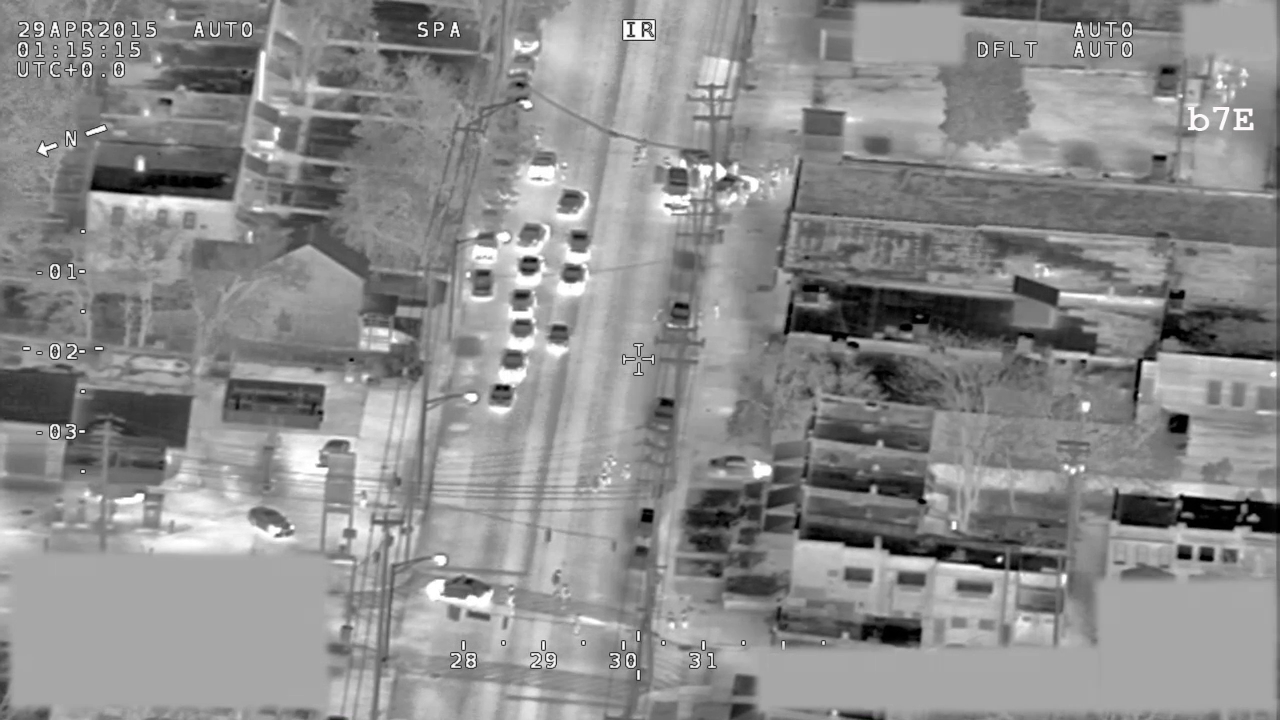vehicle: (422, 568, 498, 612), (648, 163, 702, 220), (707, 173, 762, 216), (242, 500, 297, 542), (703, 454, 774, 486), (552, 182, 594, 224), (510, 8, 544, 58), (677, 143, 725, 178), (504, 58, 538, 104), (524, 146, 563, 185), (562, 226, 597, 268), (509, 219, 552, 253), (467, 228, 503, 267), (553, 262, 593, 297), (314, 437, 353, 472), (507, 315, 543, 351), (628, 537, 659, 576), (513, 254, 547, 288), (631, 508, 663, 542), (468, 265, 497, 302), (496, 349, 528, 382), (545, 322, 572, 361), (507, 284, 540, 315), (652, 394, 676, 436), (668, 298, 694, 336), (487, 381, 515, 414)
